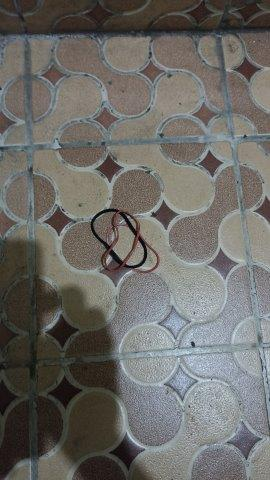karet: (90, 208, 161, 274)
